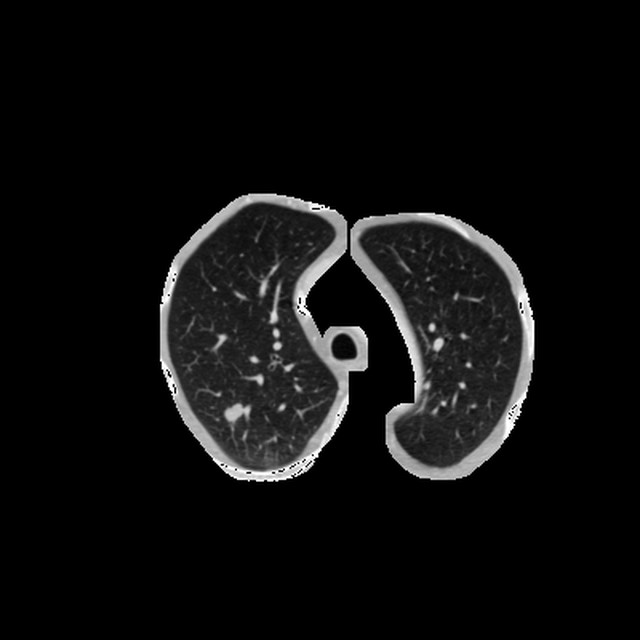PN: (224, 402, 243, 421)
